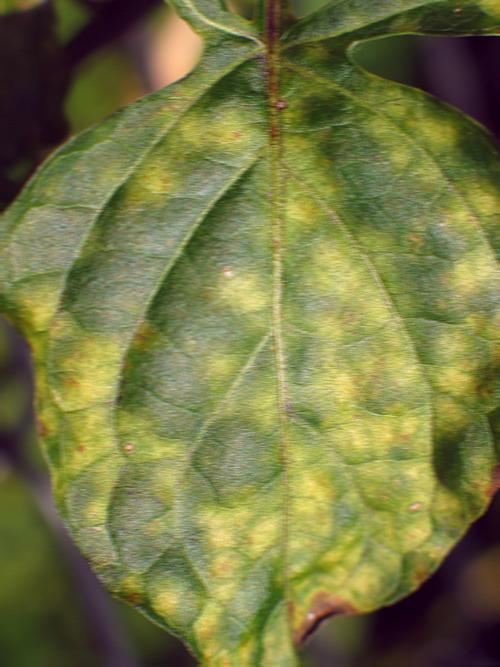Tomato mold leaf: (1, 0, 497, 661)
